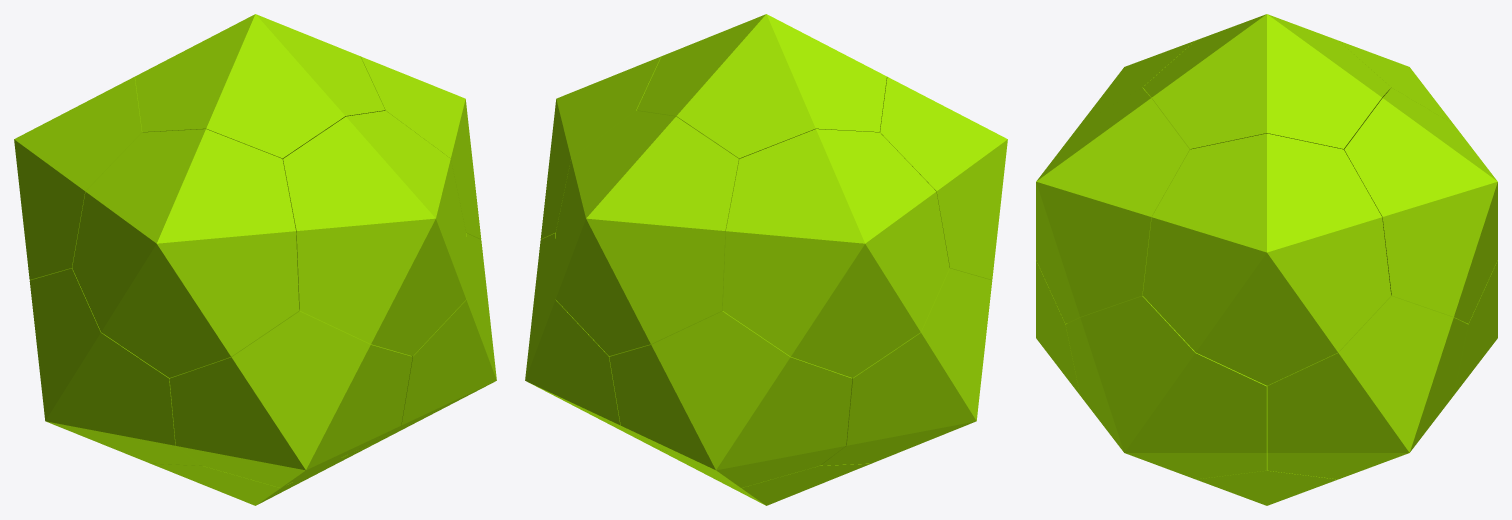
File: fractureGem.fbx
3 renders of one model, left to right at view 1: azimuth 30°, elevation 25°; view 2: azimuth 150°, elevation 25°; view 3: azimuth 270°, elevation 25°, orthographic.
Visible parts, largest first — view 1: Cube.004_cell.007, Cube.004_cell.006, Cube.004_cell.002, Cube.004_cell.011, Cube.004_cell.003, Cube.004_cell.008, Cube.004_cell.001, Cube.004_cell.010, Cube.004_cell; view 2: Cube.004_cell.008, Cube.004_cell.009, Cube.004_cell.004, Cube.004_cell.011, Cube.004_cell.003, Cube.004_cell.007, Cube.004_cell.005, Cube.004_cell.010, Cube.004_cell; view 3: Cube.004_cell.010, Cube.004_cell.005, Cube.004_cell.001, Cube.004_cell.009, Cube.004_cell.006, Cube.004_cell.011, Cube.004_cell, Cube.004_cell.004, Cube.004_cell.002, Cube.004_cell.007, Cube.004_cell.008.
Part boxes in pixels (box(x1,y1,x2,y2)): Cube.004_cell.007: box(72, 129, 299, 377); Cube.004_cell.006: box(283, 110, 466, 356); Cube.004_cell.002: box(169, 310, 412, 487); Cube.004_cell.011: box(135, 14, 385, 159); Cube.004_cell.003: box(29, 268, 201, 465); Cube.004_cell.008: box(14, 76, 142, 280); Cube.004_cell.001: box(354, 233, 496, 451); Cube.004_cell.010: box(360, 56, 481, 239); Cube.004_cell: box(151, 443, 375, 505); Cube.004_cell.008: box(722, 129, 949, 377); Cube.004_cell.009: box(555, 110, 738, 355); Cube.004_cell.004: box(609, 310, 852, 487); Cube.004_cell.011: box(637, 14, 886, 159); Cube.004_cell.003: box(820, 268, 992, 465); Cube.004_cell.007: box(879, 76, 1007, 280); Cube.004_cell.005: box(525, 233, 667, 451); Cube.004_cell.010: box(540, 56, 661, 239); Cube.004_cell: box(646, 443, 870, 505); Cube.004_cell.010: box(1142, 133, 1391, 385); Cube.004_cell.005: box(1267, 296, 1468, 479); Cube.004_cell.001: box(1065, 296, 1266, 479); Cube.004_cell.009: box(1344, 88, 1497, 323); Cube.004_cell.006: box(1036, 88, 1189, 323); Cube.004_cell.011: box(1143, 14, 1390, 149); Cube.004_cell: box(1196, 386, 1337, 505); Cube.004_cell.004: box(1454, 260, 1497, 394); Cube.004_cell.002: box(1036, 260, 1079, 394); Cube.004_cell.007: box(1081, 41, 1194, 123); Cube.004_cell.008: box(1339, 41, 1452, 123).
Size of the model in its own units: 179 by 200 by 170.
